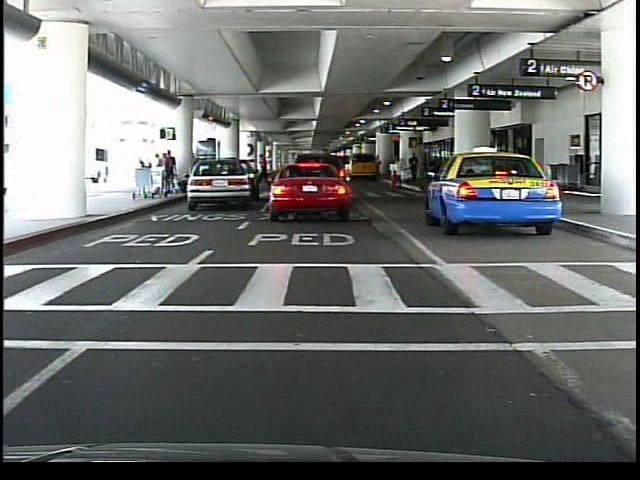person: (165, 149, 180, 199), (321, 154, 335, 202), (258, 154, 275, 192), (393, 153, 408, 190), (306, 165, 317, 202), (410, 153, 421, 185)
